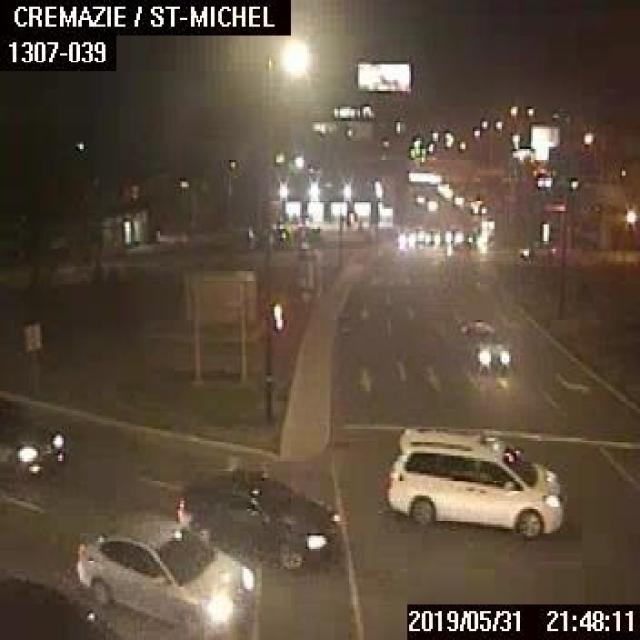vehicle: (75, 514, 253, 638), (387, 424, 565, 535), (176, 467, 339, 572), (0, 571, 109, 638), (0, 393, 67, 475), (462, 318, 509, 371), (519, 239, 554, 261), (443, 222, 462, 244), (396, 227, 414, 246), (422, 227, 440, 244)
